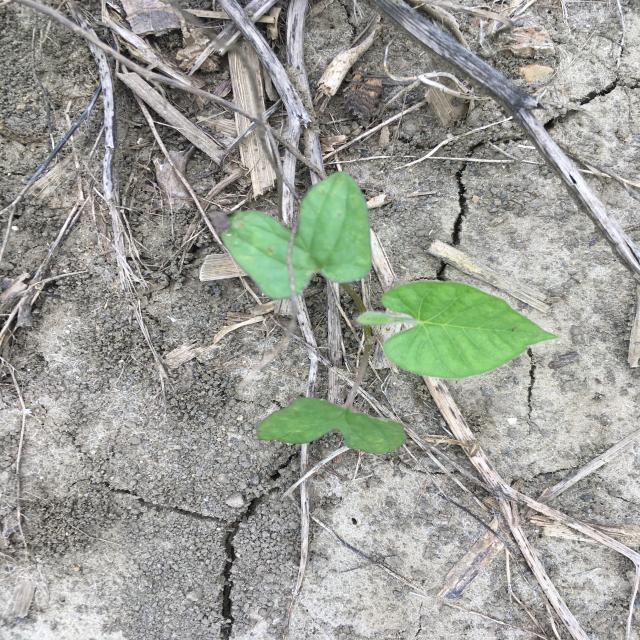MorningGlory: (220, 171, 558, 455)
